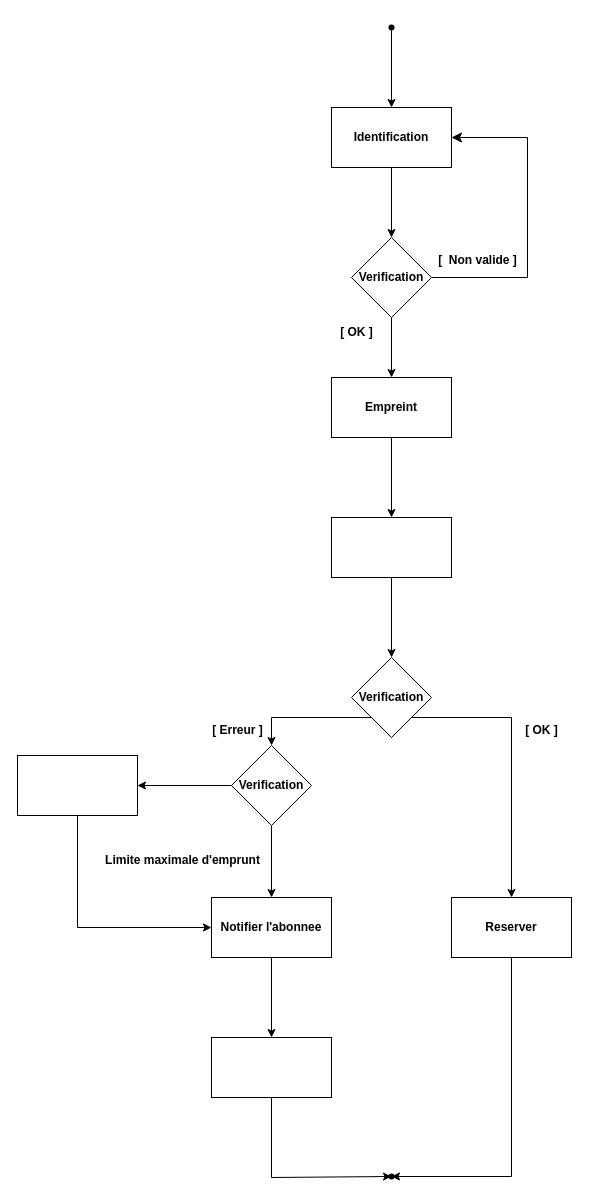
This 589x1204 diagram has some shape labels left out. The shapes that lost their labels are listed below. From the top down, each one's centre as x and y in pixels, then its label:
the point at 391,547: Reservation
the point at 77,785: Cotisation impayée
the point at 271,1067: Echec de la reservation
